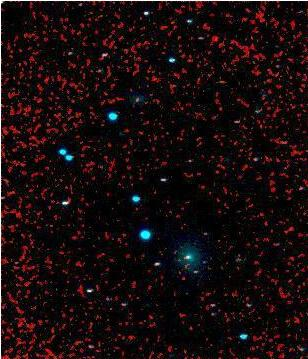star: (173, 238, 203, 268)
